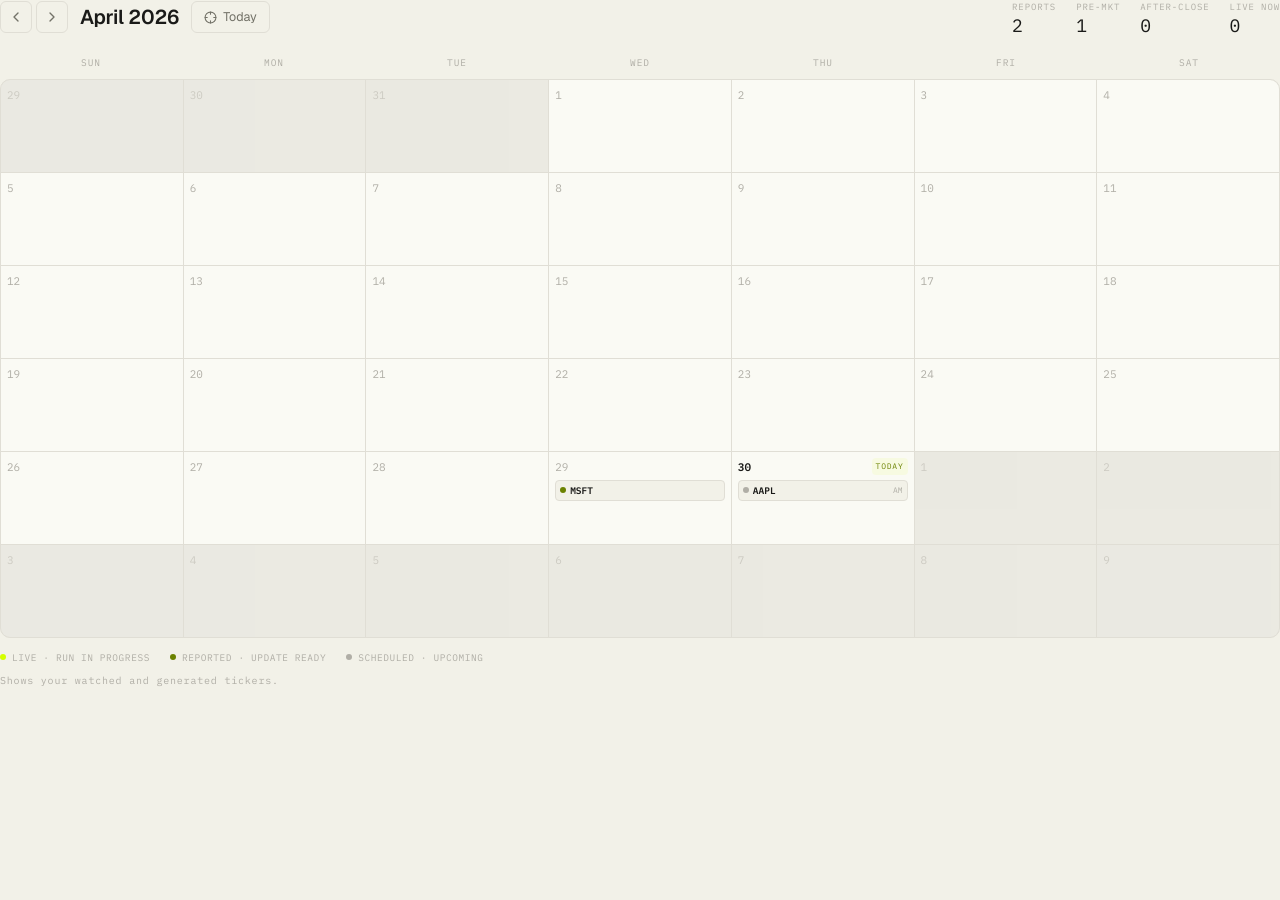
EuCalendar › opens the day popover when a day with events is clicked
The image size is (1280, 900).
Click the button with test id "eu-cal-cell-2026-04-30" at point(823, 498), box [732, 452, 914, 544]
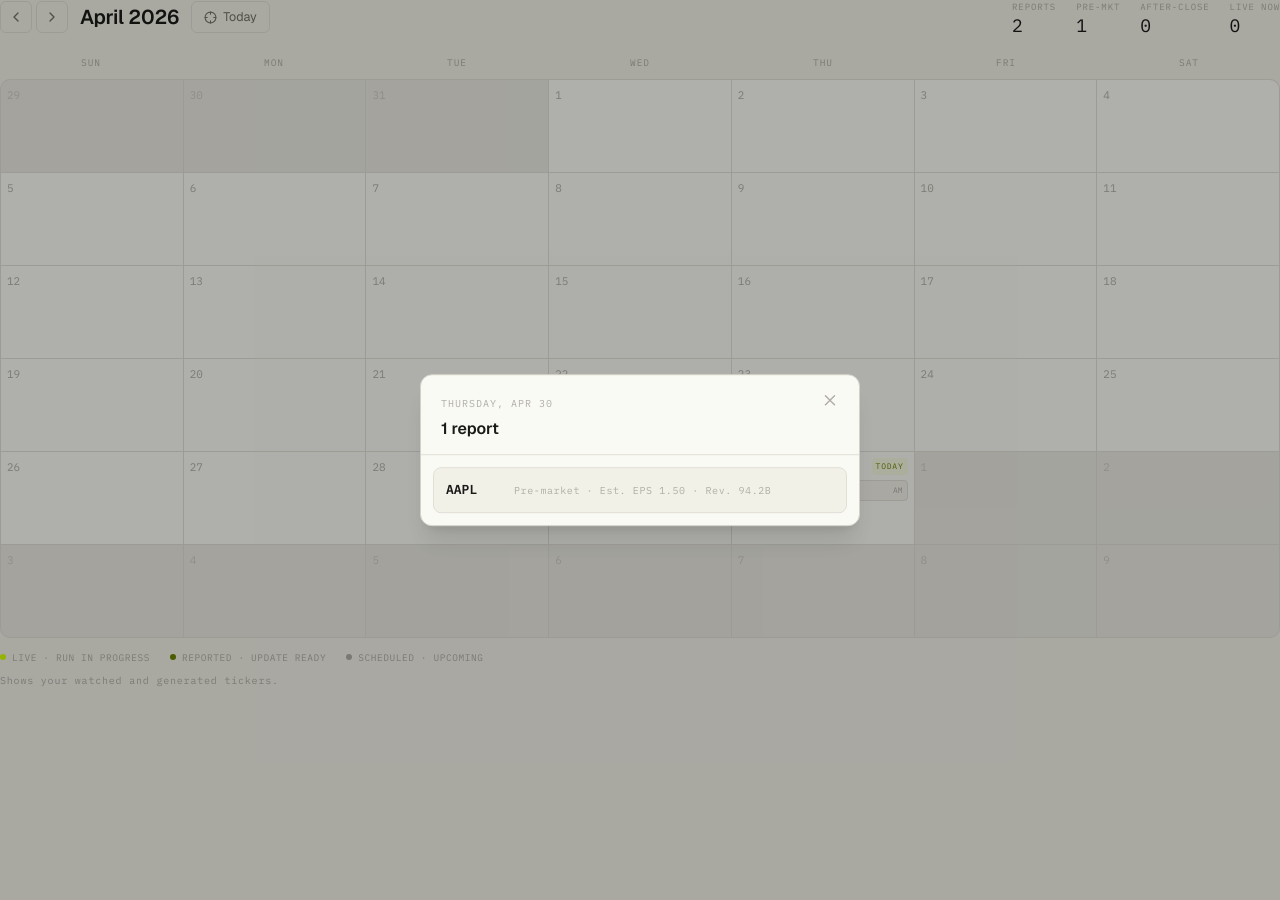
Expected: the heading "1 report" is shown, [441, 418, 499, 439]
